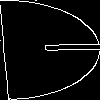L: (24, 25, 100, 54)
